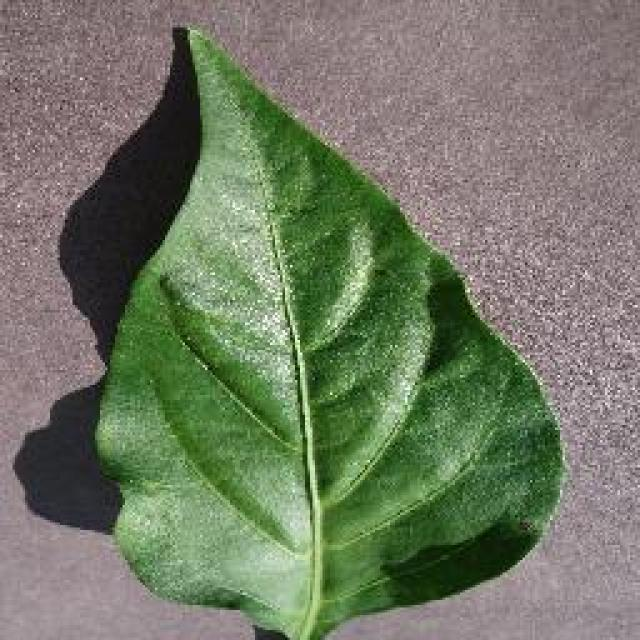Chilli_Healthy: (90, 22, 568, 638)
